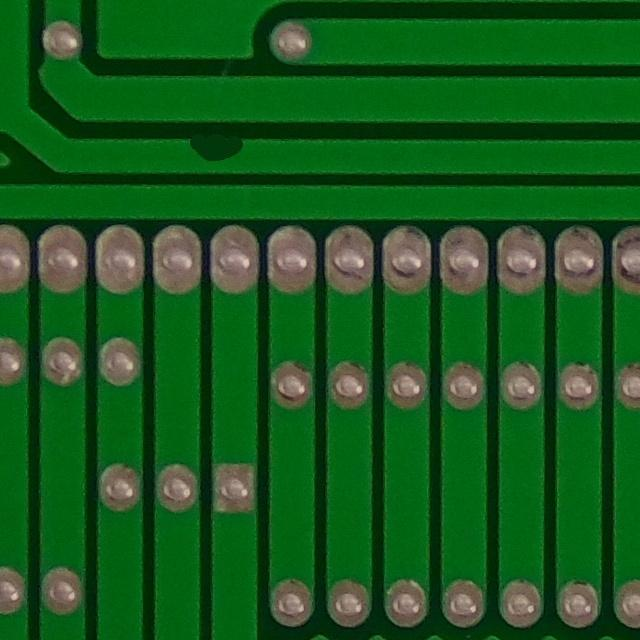mouse_bite: (177, 117, 262, 173)
